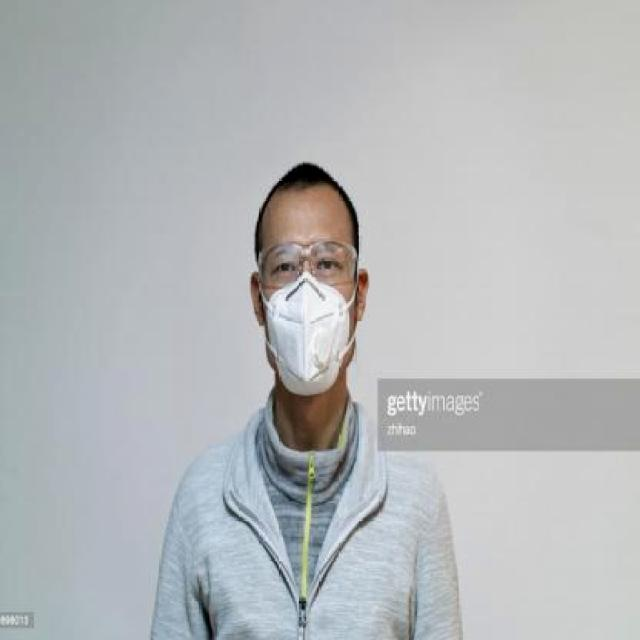face_mask: (259, 240, 356, 382)
glasses: (256, 236, 356, 312)
head_nohelmet: (254, 148, 366, 222)
person: (156, 138, 467, 640)
